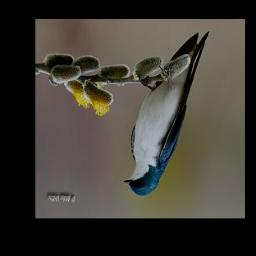Swallow: (123, 30, 210, 197)
